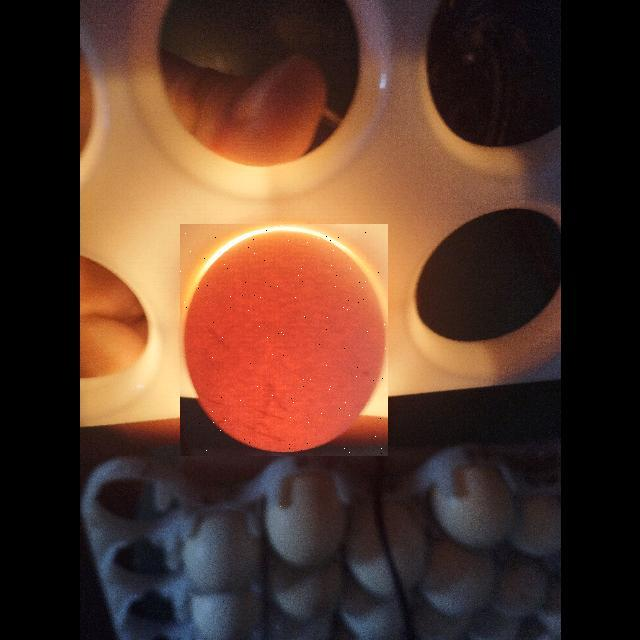Infertile: (180, 224, 388, 456)
